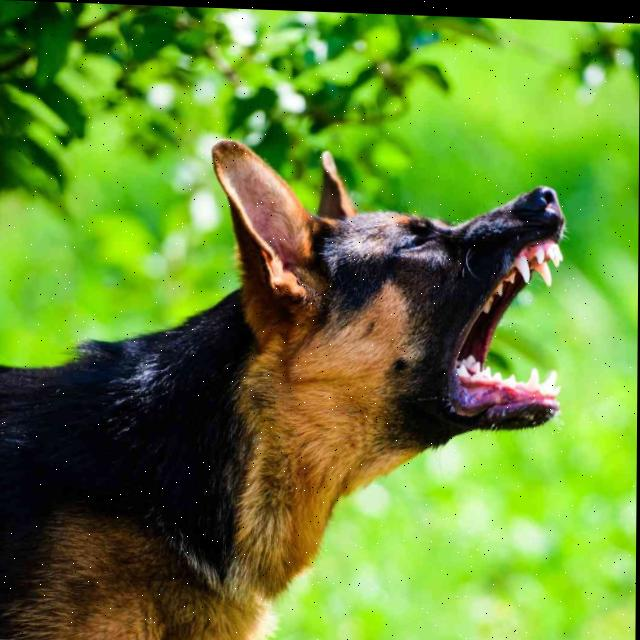GERMAN_SHEPHERD: (0, 116, 586, 640)
